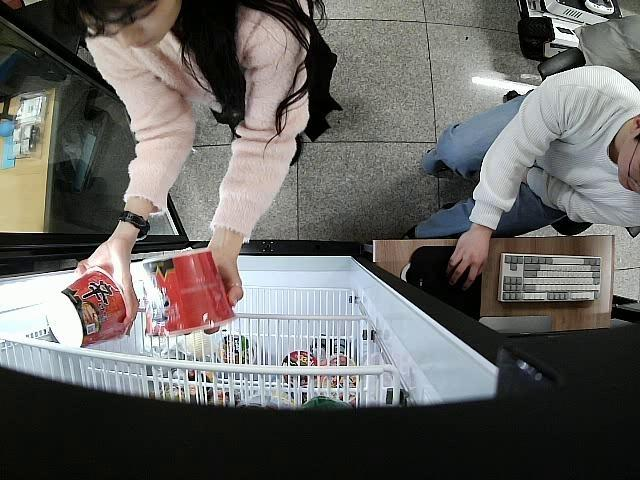01_ShinRamen_L: (142, 252, 235, 336), (45, 272, 130, 346)
